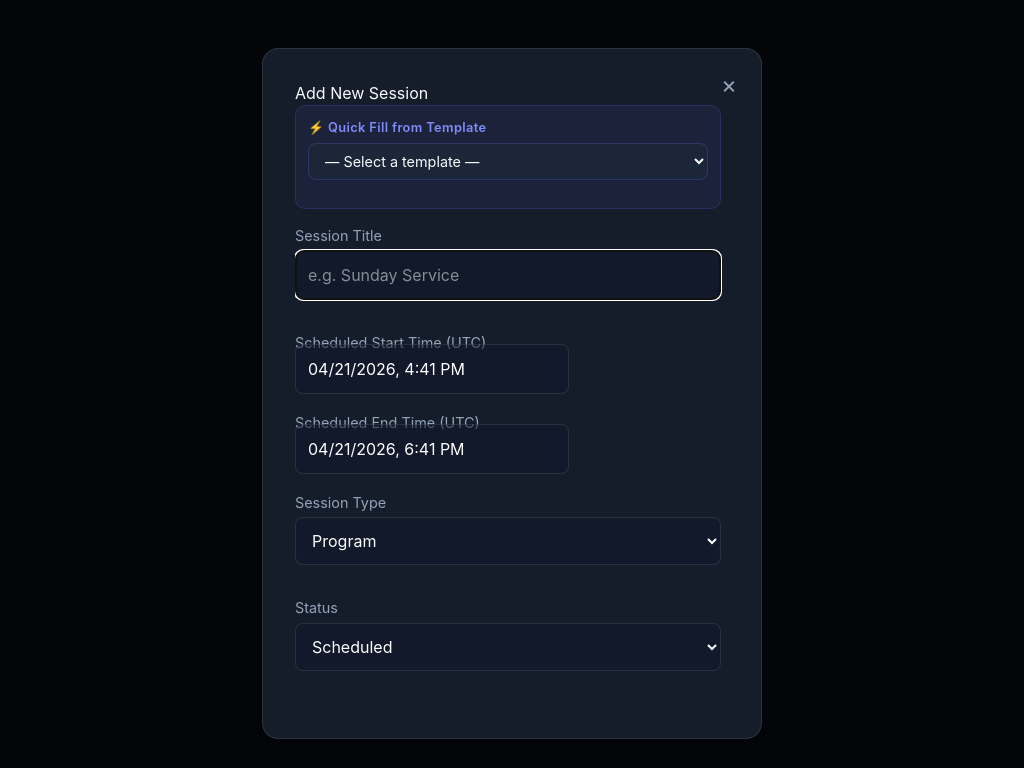
Test: AddSessionModal › fills form fields when a template is selected
The width and height of the screenshot is (1024, 768).
Expected: the text "⚡ Quick Fill from Template" is shown, [308,120,486,135]
Select "Sunday Service (program · Sundays · 10:00)" in the dropdown below "⚡ Quick Fill from Template": (508, 161) [308,143,708,180]
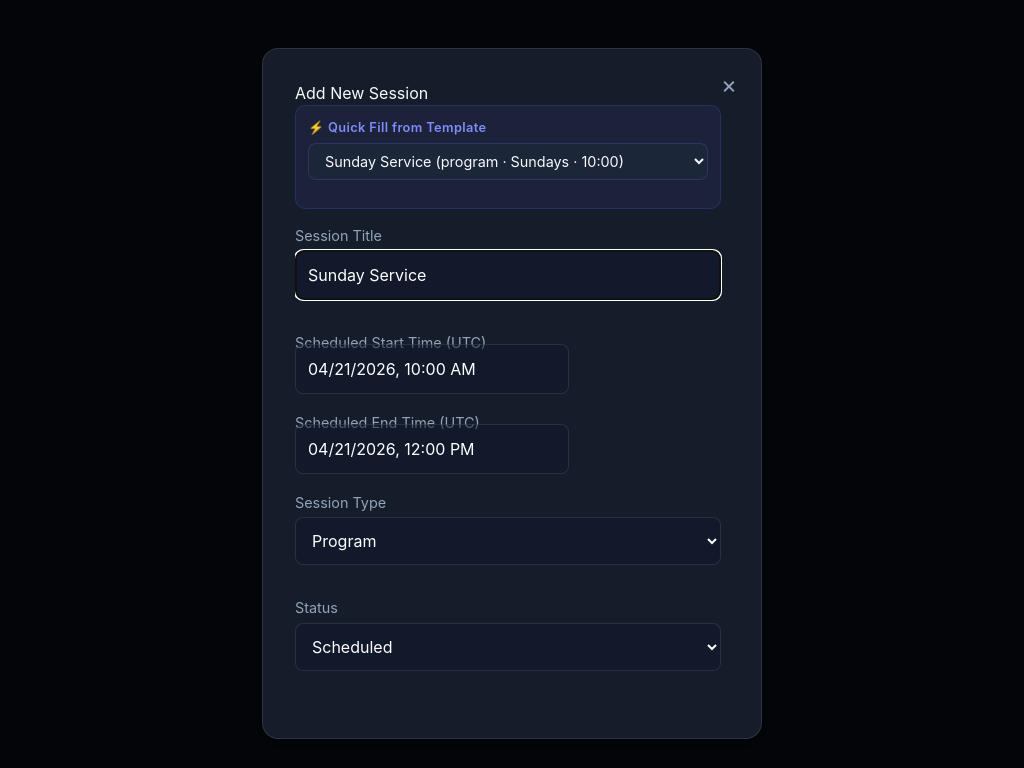
Expected: the field with placeholder "e.g. Sunday Service" below "Session Title" holds "Sunday Service", [295,250,721,300]
